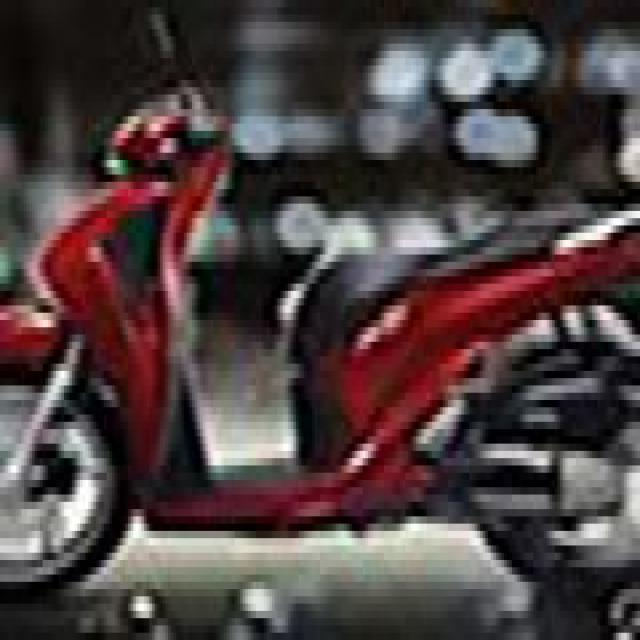motorcycle: (1, 48, 631, 636)
